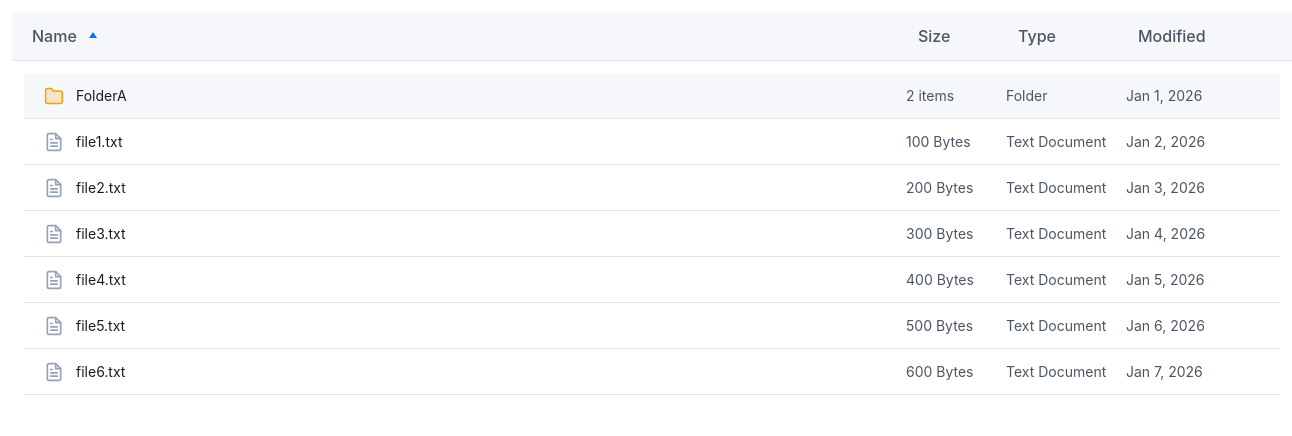
Test: TP-FE-UI-04: FileList selection, context menu, ARIA, and SFTP fields (BUG-064) › supports single click, Shift+Click, Ctrl+Click, right-click preservation/reselection, and ARIA roles
The width and height of the screenshot is (1292, 436).
Note: Single click on file1.txt (index 1, after FolderA)
Click the option "file1.txt 100 Bytes Text Document Jan 2, 2026". click: (99, 142)
box: [24, 119, 1280, 165]
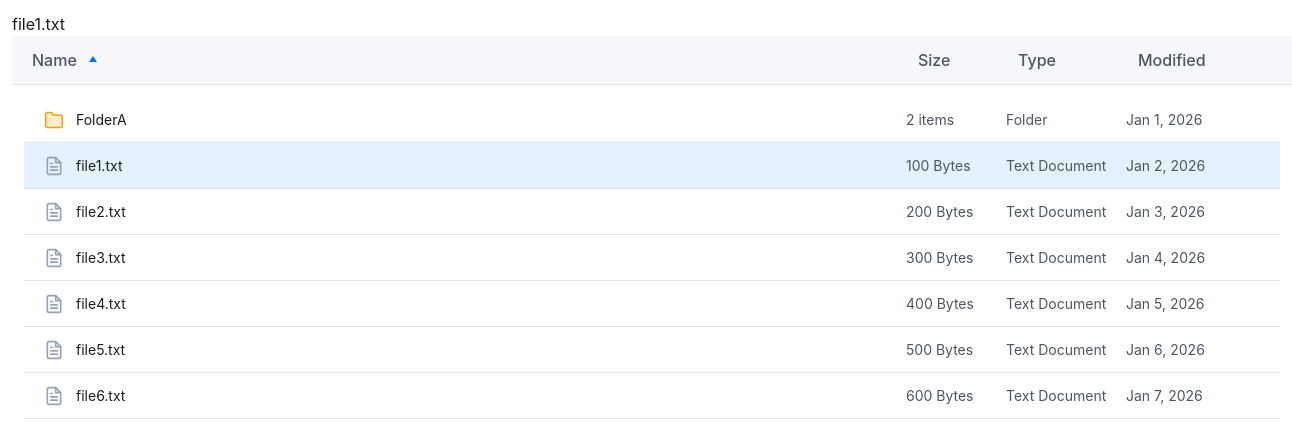
Expected: the text with test id "selected-names" reads "file1.txt", [12, 14, 65, 34]
Note: Shift+Click on file4.txt (index 4)
Click the option "file4.txt 400 Bytes Text Document Jan 5, 2026". click: (101, 304)
box: [24, 281, 1280, 327]
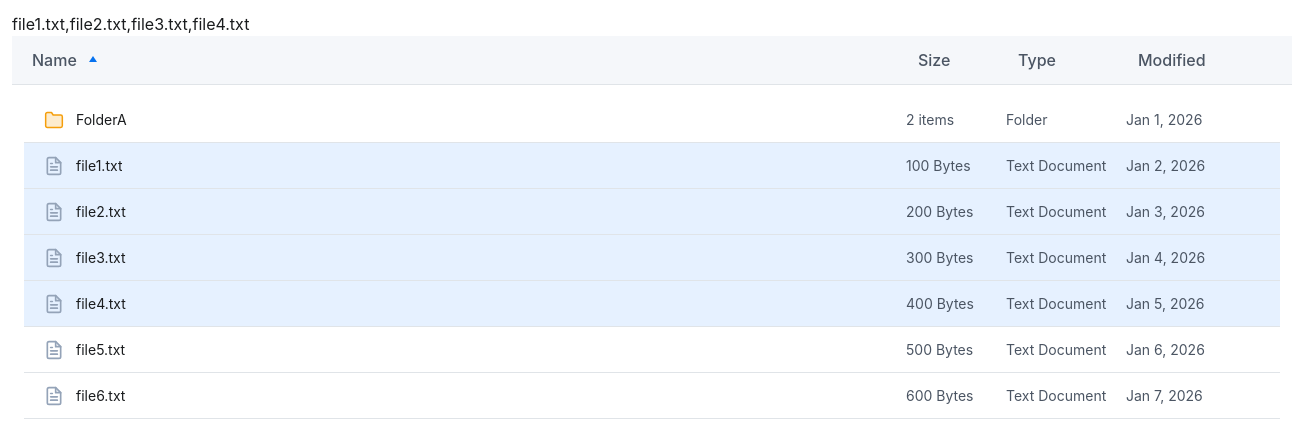
Expected: the text with test id "selected-names" reads "file1.txt,file2.txt,file3.txt,file4.txt", [12, 14, 249, 34]
Note: Ctrl+Click on file2.txt (deselect) and file6.txt (add)
Click the option "file2.txt 200 Bytes Text Document Jan 3, 2026". click: (101, 212)
box: [24, 189, 1280, 235]
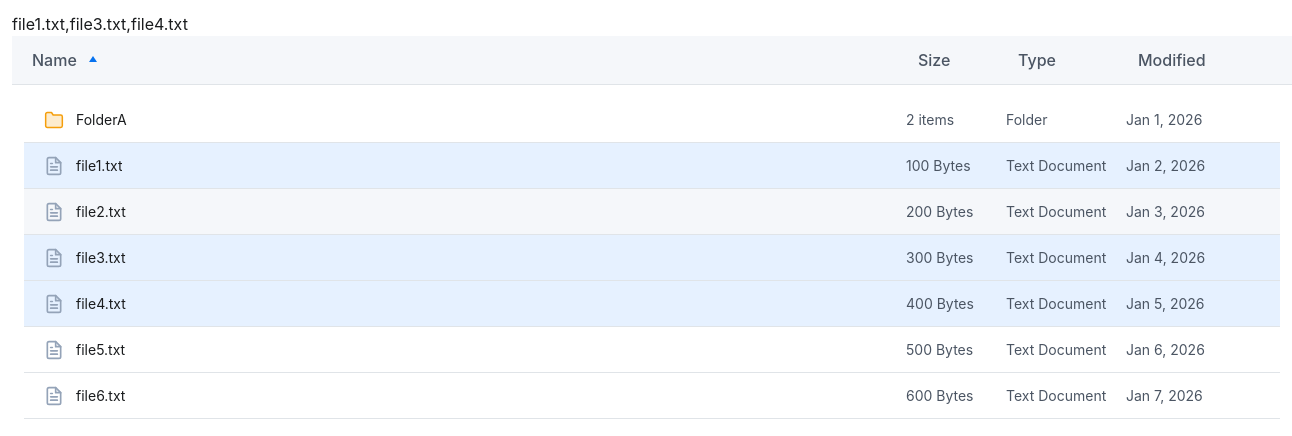
Expected: the text with test id "selected-names" reads "file1.txt,file3.txt,file4.txt", [12, 14, 188, 34]
Click the option "file6.txt 600 Bytes Text Document Jan 7, 2026". click: (101, 396)
box: [24, 373, 1280, 419]
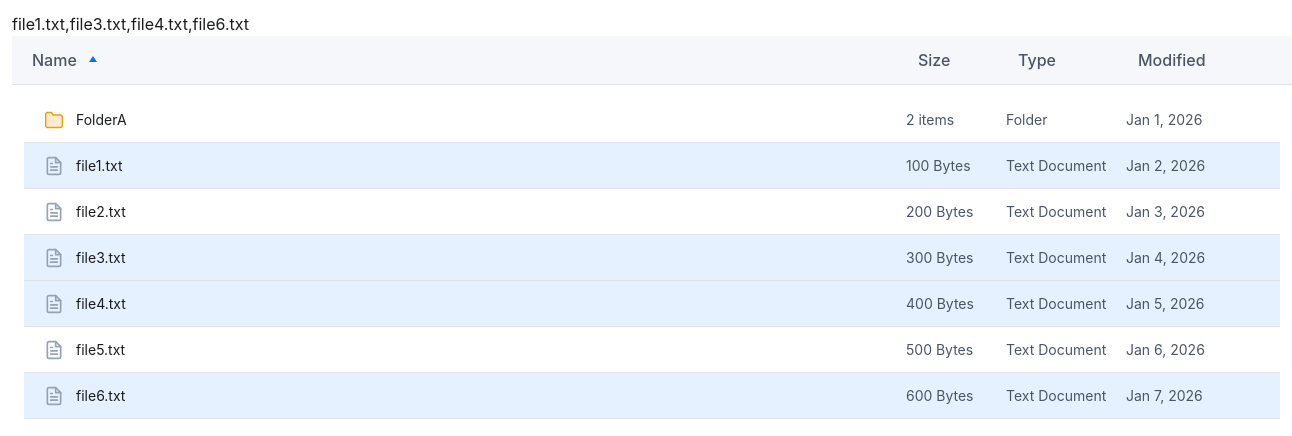
Expected: the text with test id "selected-names" reads "file1.txt,file3.txt,file4.txt,file6.txt", [12, 14, 249, 34]
Note: Right-click inside selected group preserves group
Right-click the option "file3.txt 300 Bytes Text Document Jan 4, 2026" at (101, 258), box [24, 235, 1280, 281]
Note: Right-click on unselected FolderA re-selects FolderA
Right-click the option "FolderA 2 items Folder Jan 1, 2026" at (101, 120), box [24, 97, 1280, 143]
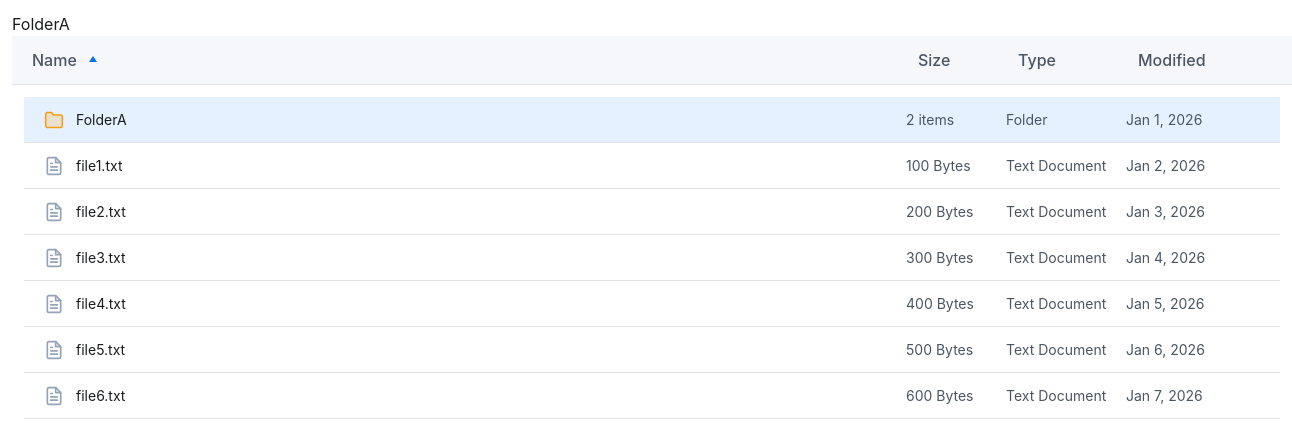
Expected: the text with test id "selected-names" reads "FolderA", [12, 14, 70, 34]
